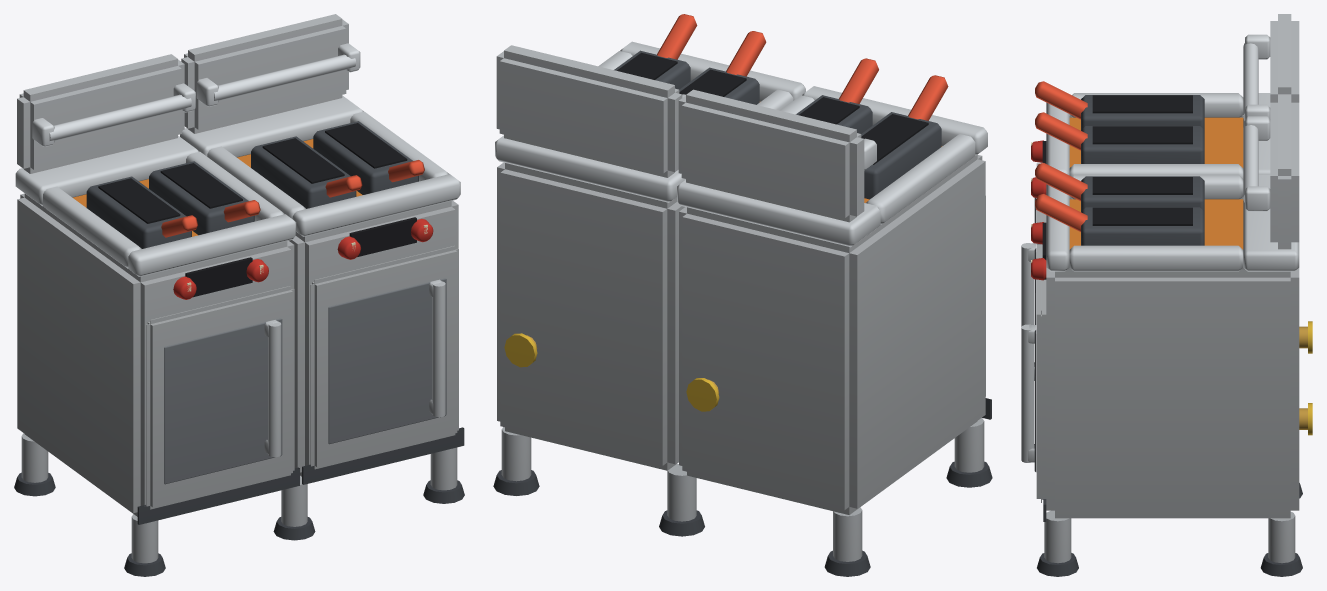
The model's file is SM_Fryer_Double_10.glb.
The picture shows the model from 3 angles, left to right: view 1: azimuth 30°, elevation 25°; view 2: azimuth 150°, elevation 25°; view 3: azimuth 270°, elevation 25°; orthographic projection. The views are drawn at different scales.
Visible parts, largest first — view 1: SM_Fryer_Double_10; view 2: SM_Fryer_Double_10; view 3: SM_Fryer_Double_10.
Part boxes in pixels (x1,y1,x2,y2): SM_Fryer_Double_10: (14, 14, 464, 576); SM_Fryer_Double_10: (493, 14, 992, 576); SM_Fryer_Double_10: (1021, 14, 1312, 576).
Bounding box in the file's own units: 1.02 × 1.15 × 0.755.
Materials: 1 (1 with a texture image).
